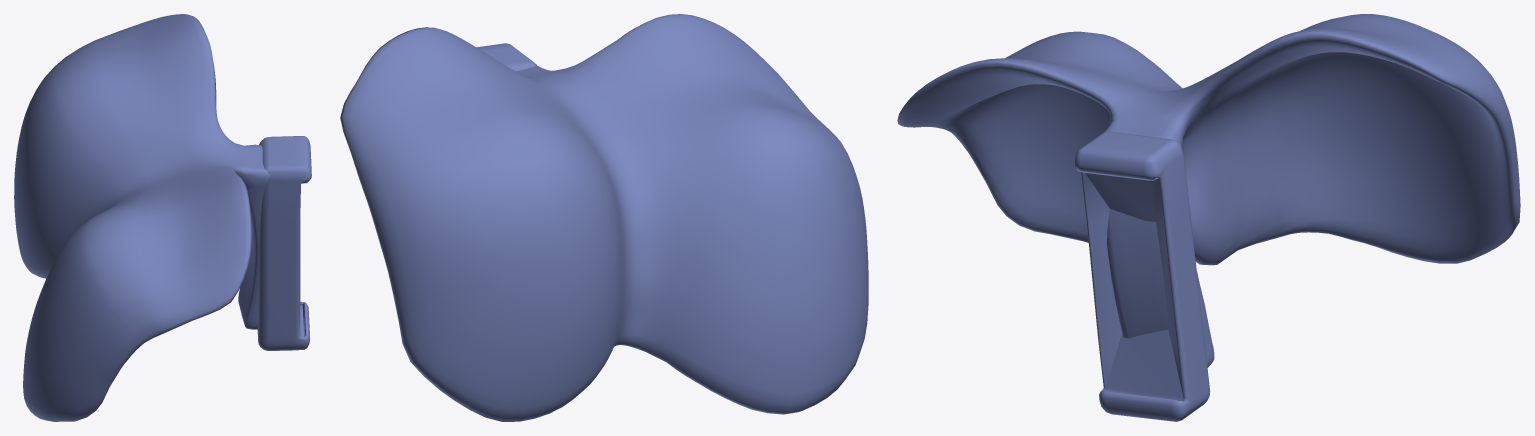
Rendered from BR5_Spacers_BaguetteMetal.001.glb.
The picture shows the model from 3 angles, left to right: view 1: azimuth 30°, elevation 25°; view 2: azimuth 150°, elevation 25°; view 3: azimuth 270°, elevation 25°; orthographic projection. The views are drawn at different scales.
Visible parts, largest first — view 1: BR5_Spacers_BaguetteMetal.001; view 2: BR5_Spacers_BaguetteMetal.001; view 3: BR5_Spacers_BaguetteMetal.001.
Part boxes in pixels (<box>): BR5_Spacers_BaguetteMetal.001: <box>14,14,311,421</box>; BR5_Spacers_BaguetteMetal.001: <box>340,14,868,421</box>; BR5_Spacers_BaguetteMetal.001: <box>897,14,1520,421</box>.
Bounding box in the file's own units: 0.9198 × 0.8186 × 1.24.
